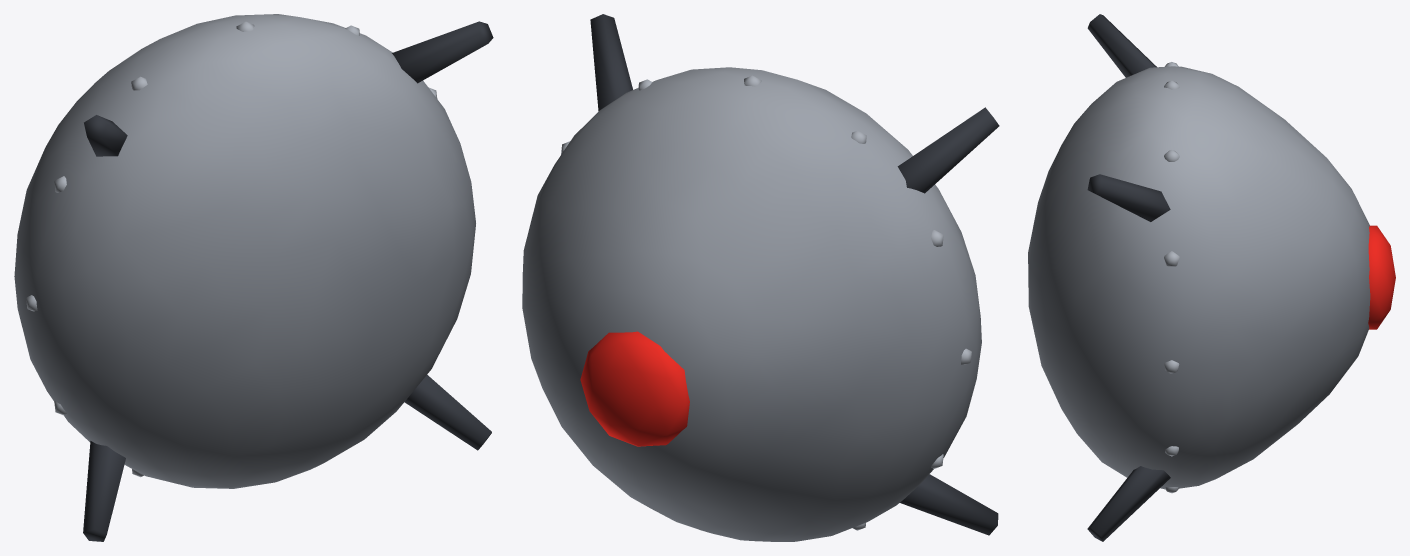
File: probe.glb
3 renders of one model, left to right at view 1: azimuth 30°, elevation 25°; view 2: azimuth 150°, elevation 25°; view 3: azimuth 270°, elevation 25°, orthographic. The views are drawn at different scales.
Parts seen in each view (by area): view 1: probe; view 2: probe; view 3: probe.
Part boxes in pixels (box(x1,y1,x2,y2)): probe: box(14, 14, 493, 541); probe: box(522, 14, 999, 541); probe: box(1028, 14, 1395, 541).
Size of the model in its own units: 0.792 by 0.7956 by 0.6731.
